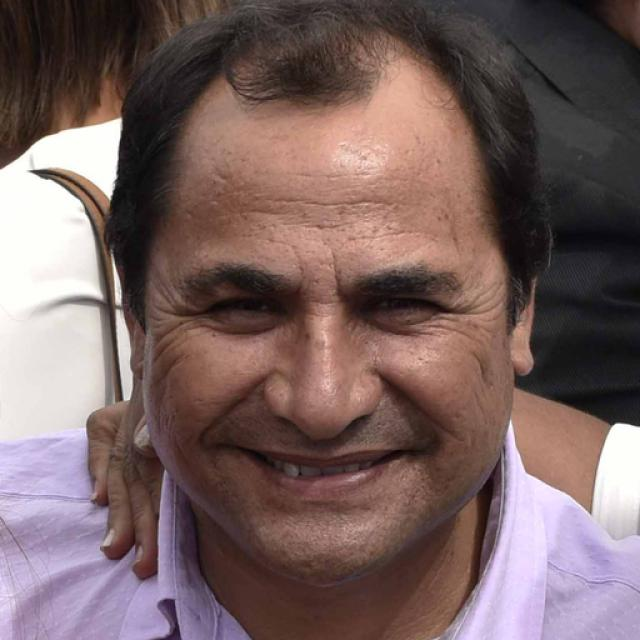Wrinkle: (270, 191, 398, 209), (353, 227, 425, 241), (468, 348, 490, 390), (241, 206, 293, 216), (310, 218, 346, 230)
